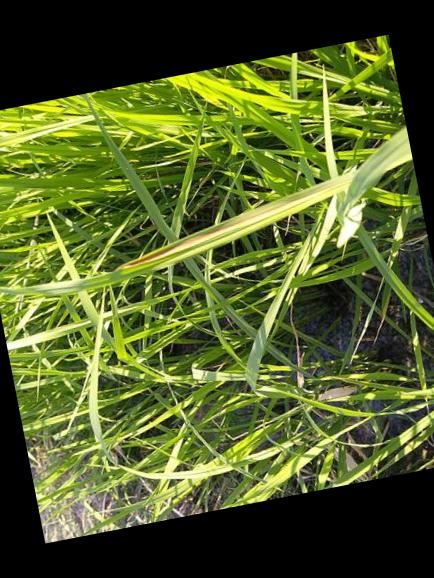Leaf Streak: (117, 171, 355, 271)
